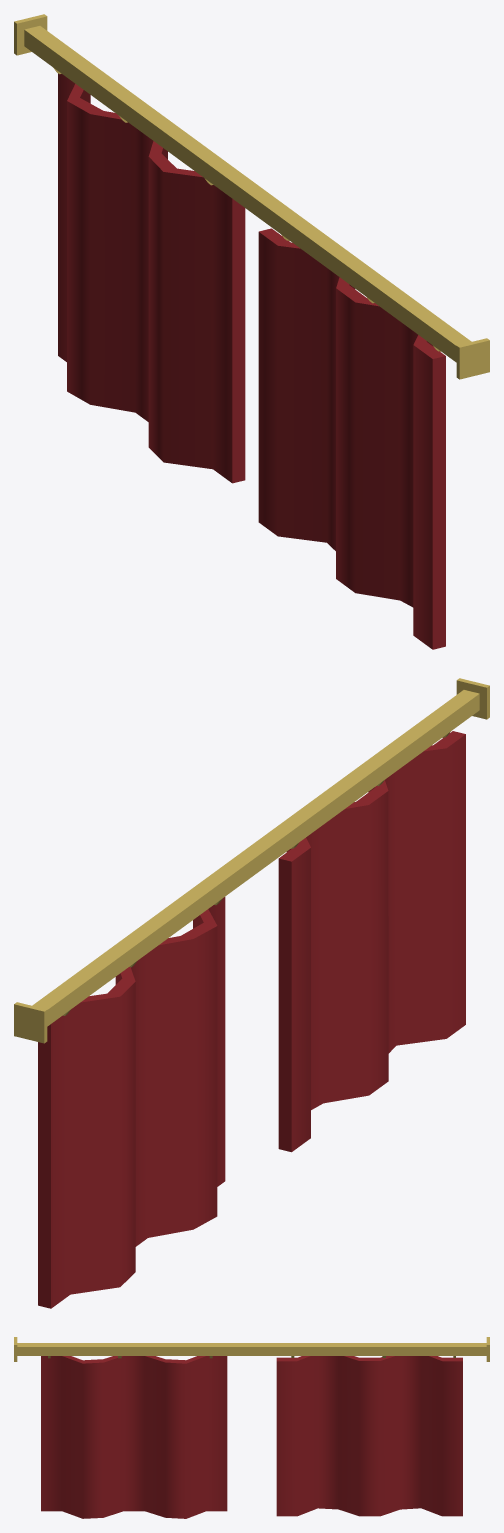
The model's file is Curtain Door.fbx.
3 views of the same model, one above another, from view 1: azimuth 30°, elevation 25°; view 2: azimuth 150°, elevation 25°; view 3: azimuth 270°, elevation 25° (orthographic). The views are drawn at different scales.
Parts seen in each view (by area): view 1: Curtain_Door; view 2: Curtain_Door; view 3: Curtain_Door.
Boxes of the visible parts, x1=… form: Curtain_Door: x1=14, y1=14, x2=489, y2=649; Curtain_Door: x1=14, y1=678, x2=489, y2=1308; Curtain_Door: x1=14, y1=1337, x2=489, y2=1518.
Bounding box in the file's own units: 1.3 × 7.34 × 18.5.
1 material, 1 textured.
